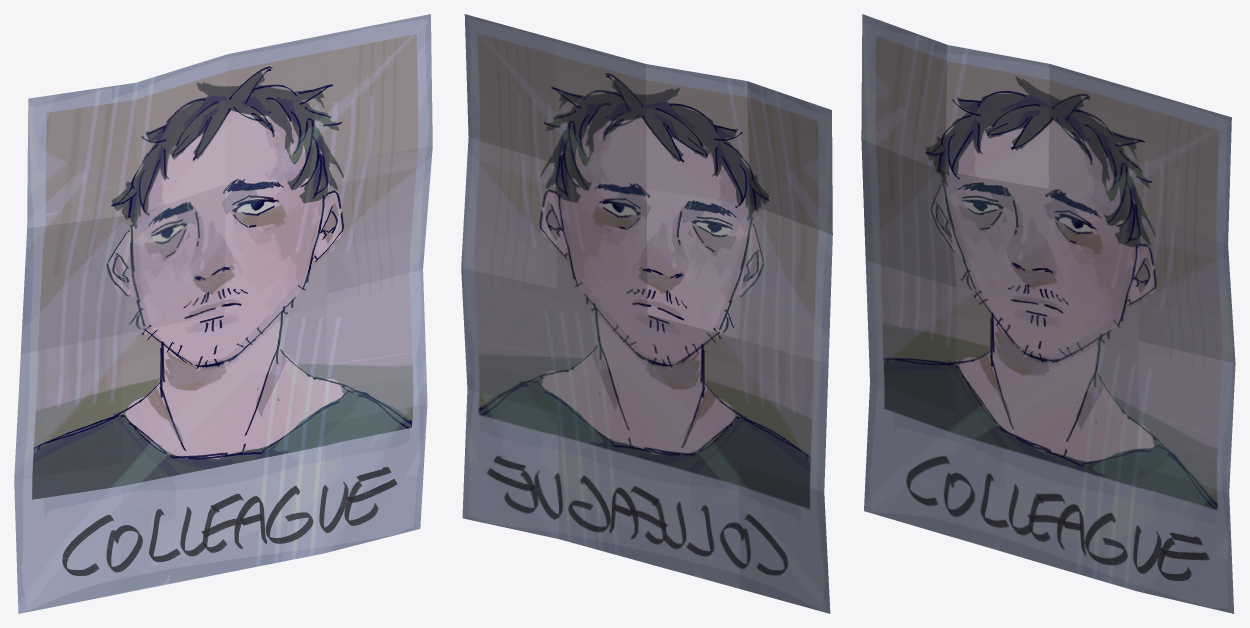
File: ColleaguePolaroid.fbx
3 renders of one model, left to right at view 1: azimuth 30°, elevation 25°; view 2: azimuth 150°, elevation 25°; view 3: azimuth 330°, elevation 25°, orthographic. The views are drawn at different scales.
Parts seen in each view (by area): view 1: Plane; view 2: Plane; view 3: Plane.
Boxes of the visible parts, box(x1,y1,x2,y2) form: Plane: box(14, 14, 432, 613); Plane: box(461, 14, 832, 613); Plane: box(861, 14, 1235, 613).
Size of the model in its own units: 142 by 179 by 15.18.
1 material, 1 textured.
